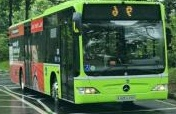bus: (106, 3, 134, 20)
